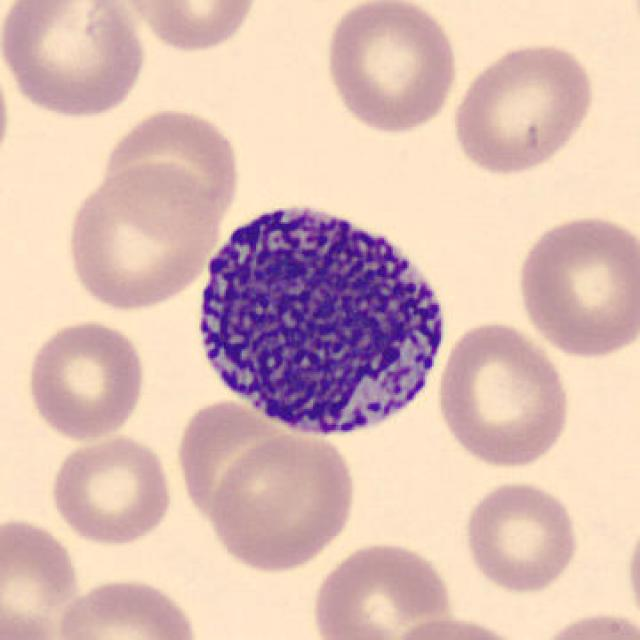Basophil: (183, 185, 459, 450)
RBC: (60, 159, 224, 314), (205, 430, 359, 575), (446, 37, 599, 178), (434, 317, 574, 471), (96, 104, 244, 236), (320, 0, 462, 136), (512, 208, 638, 361), (0, 0, 151, 120), (22, 316, 150, 444), (307, 537, 458, 640), (46, 430, 176, 547), (459, 476, 583, 596), (0, 511, 84, 640), (53, 573, 203, 640), (107, 157, 220, 243), (116, 0, 263, 55), (384, 613, 530, 640), (530, 608, 640, 640), (0, 596, 66, 640), (622, 506, 640, 631), (0, 44, 12, 187)
